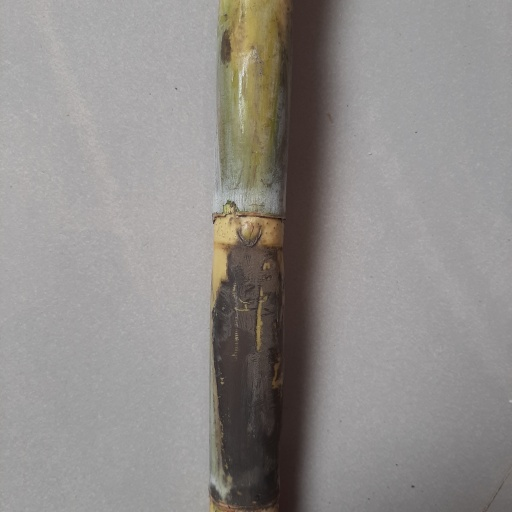Bud: (234, 218, 263, 248)
